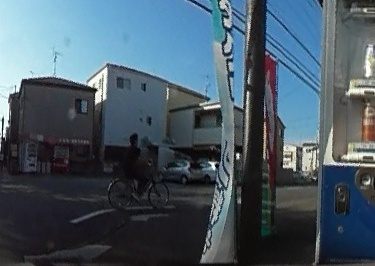person: (123, 130, 147, 197)
